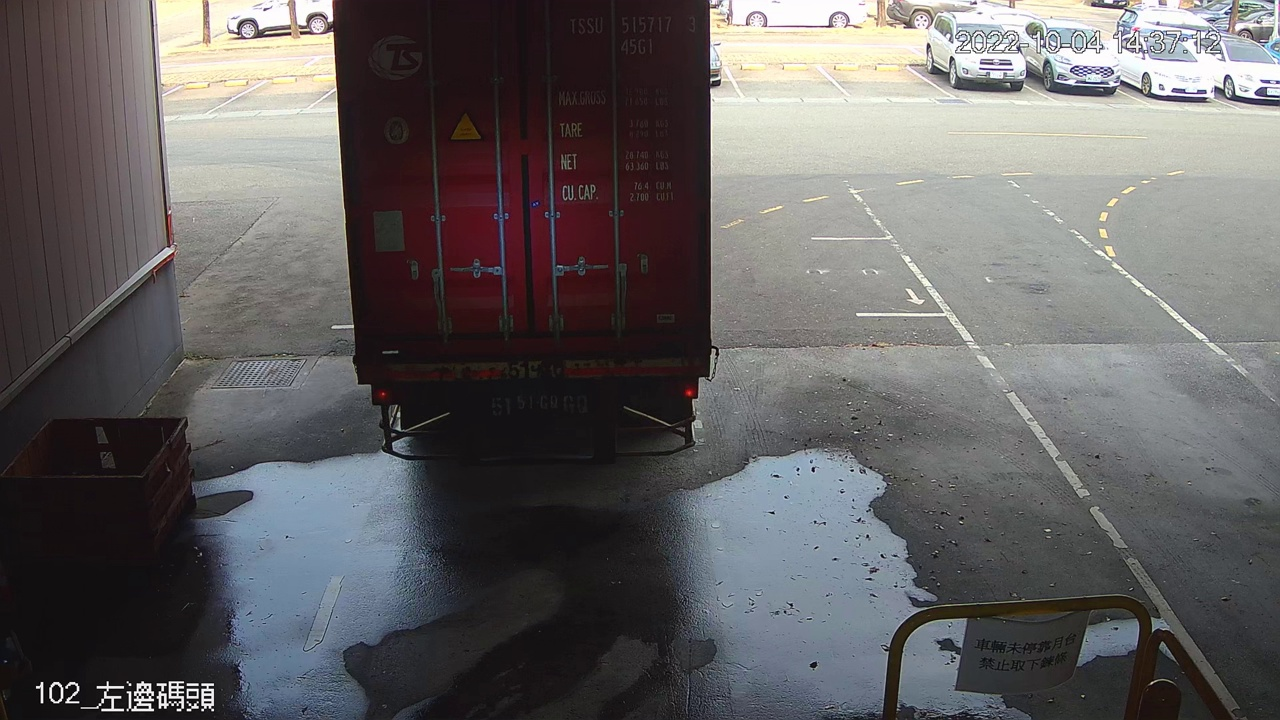container: (563, 8, 702, 62)
